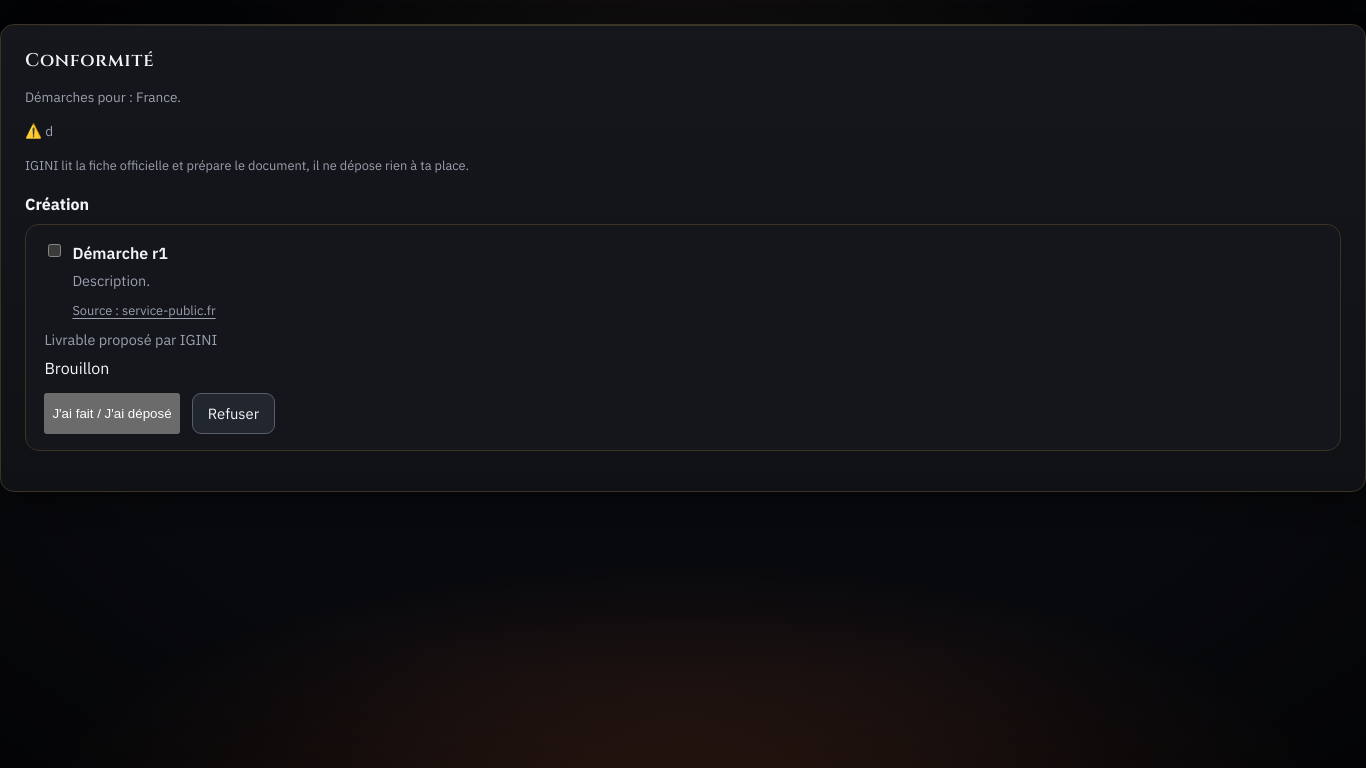
Test: ComplianceSection — IGINI prépare les démarches › Refuser envoie le motif
Click the button "Refuser" at (233, 413), box [192, 392, 275, 434]
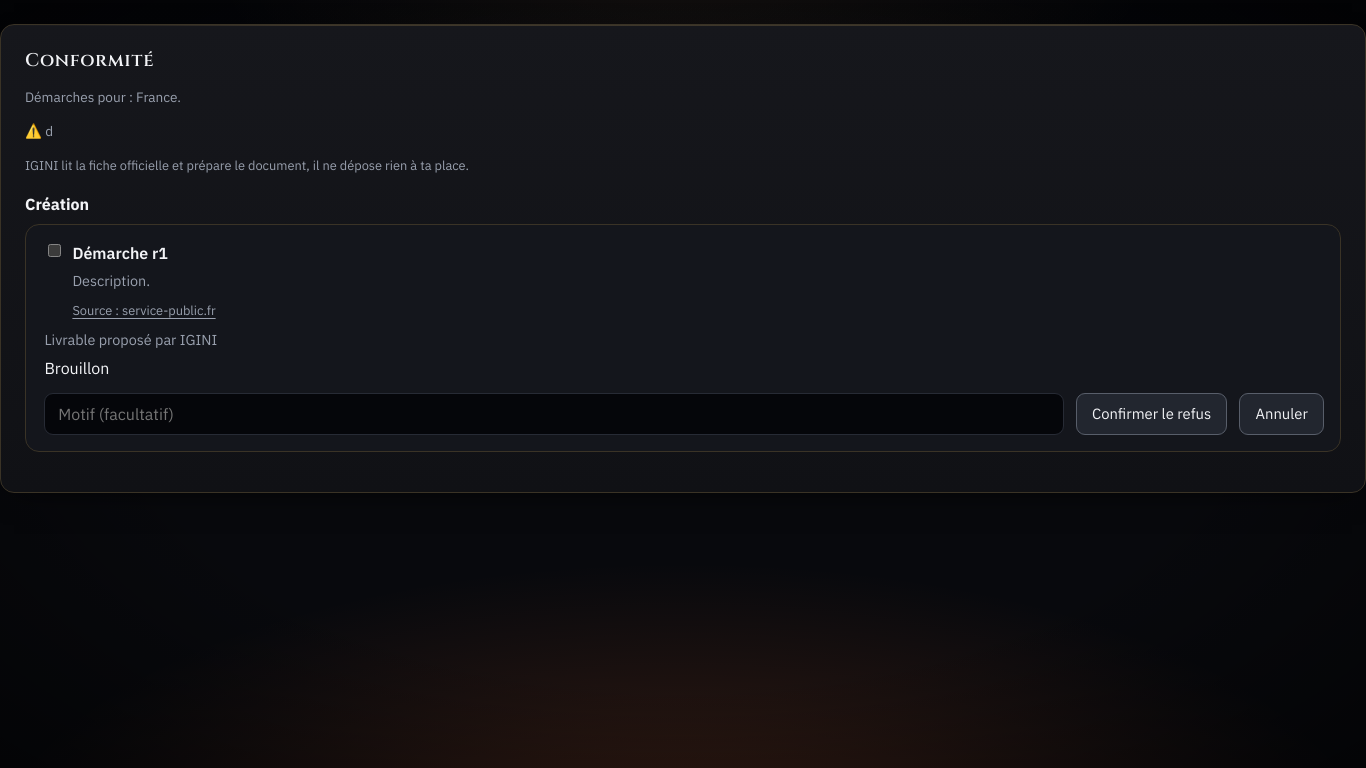
Type "Incomplet" into the field named "Motif du refus (facultatif)" at (554, 414), box [44, 392, 1064, 435]
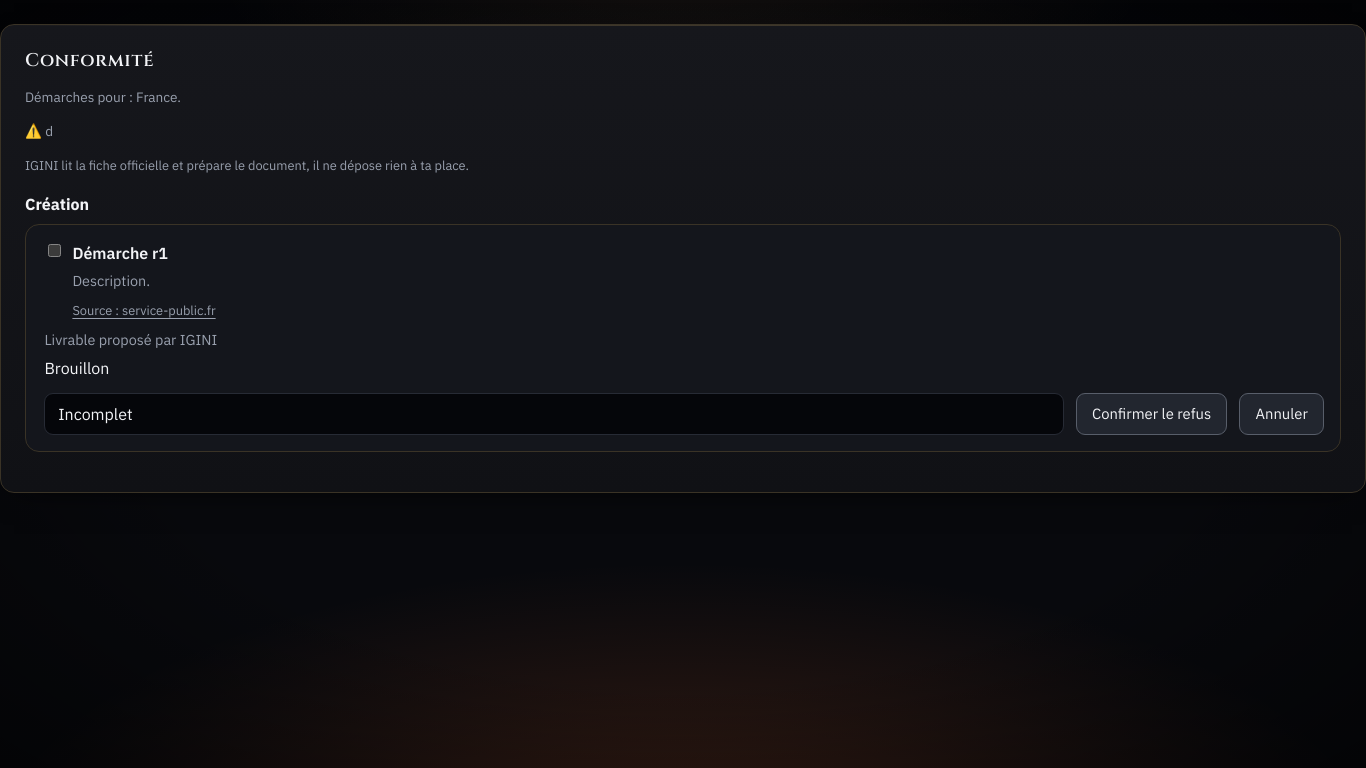
Click the button "Confirmer le refus" at (1152, 414), box [1076, 392, 1227, 435]
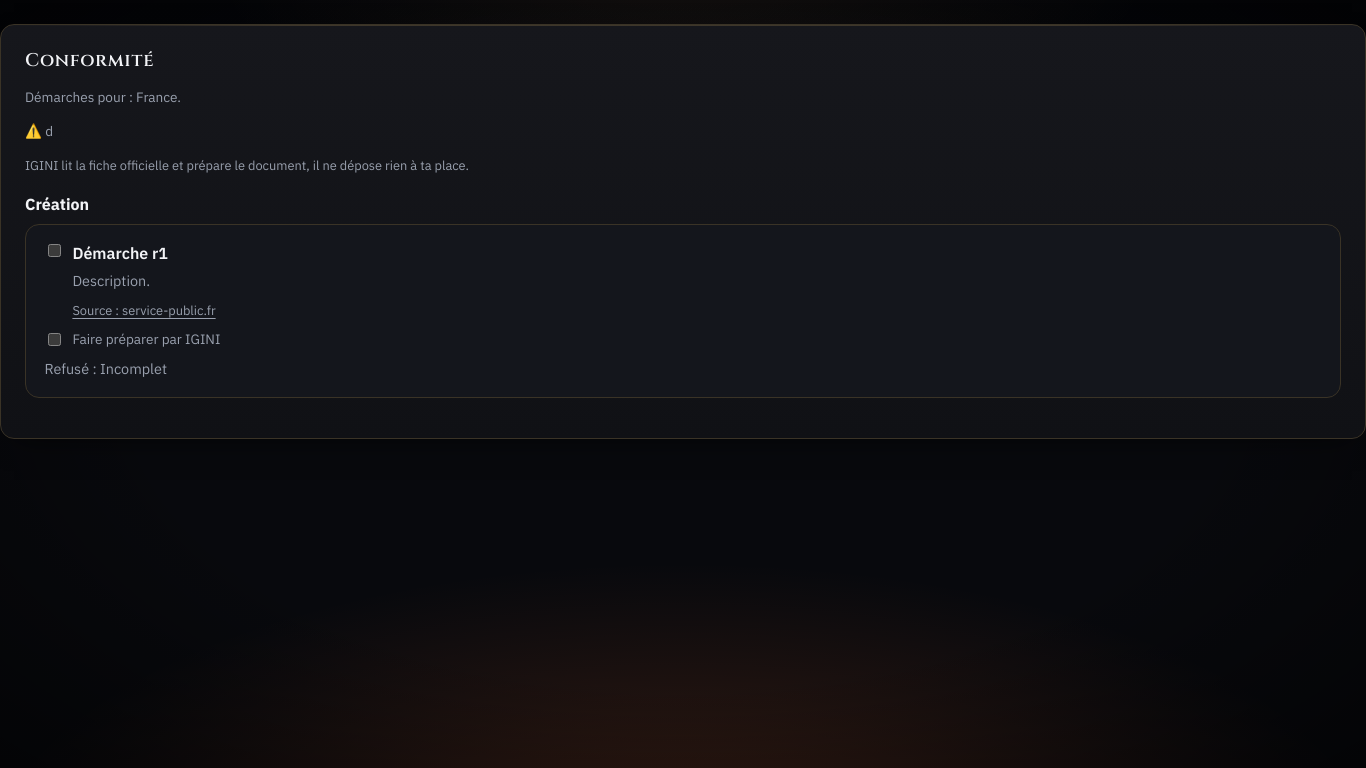
Expected: the text "Refusé : Incomplet" is shown, [44, 359, 167, 378]
Expected: the checkbox named "Faire faire : Démarche r1" is shown, [48, 333, 61, 346]
